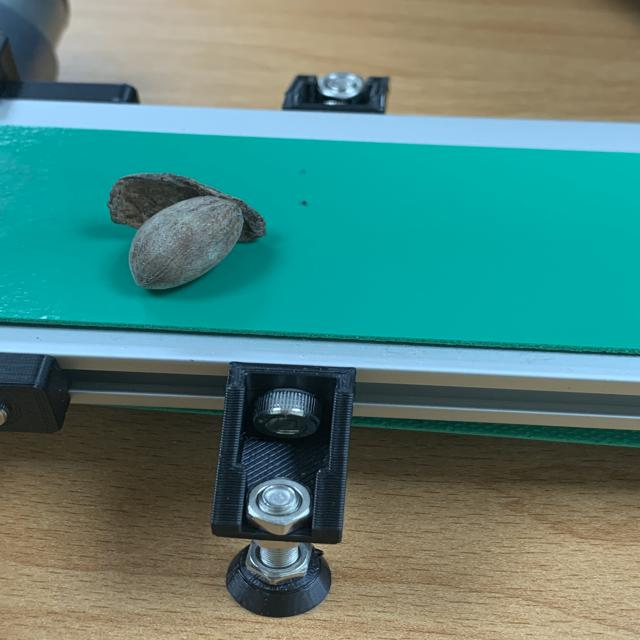Agglomerated_cocoabeans: (46, 134, 335, 324)
